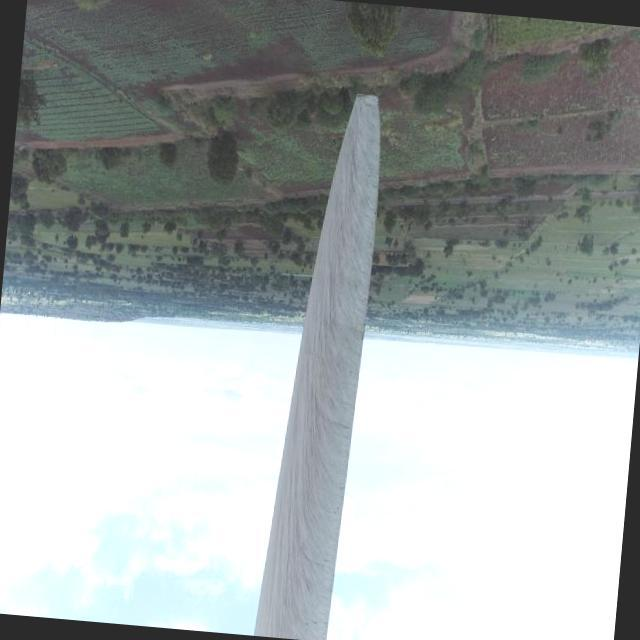Dirt: (251, 94, 384, 640)
